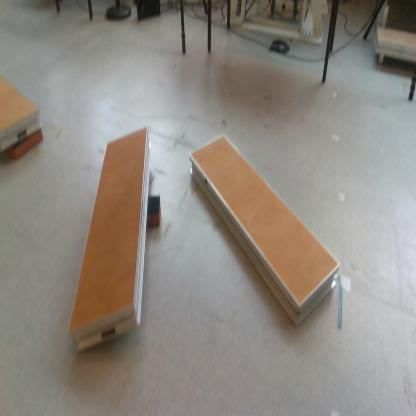Stairs: (190, 136, 341, 328), (67, 125, 152, 357), (1, 77, 41, 160)
